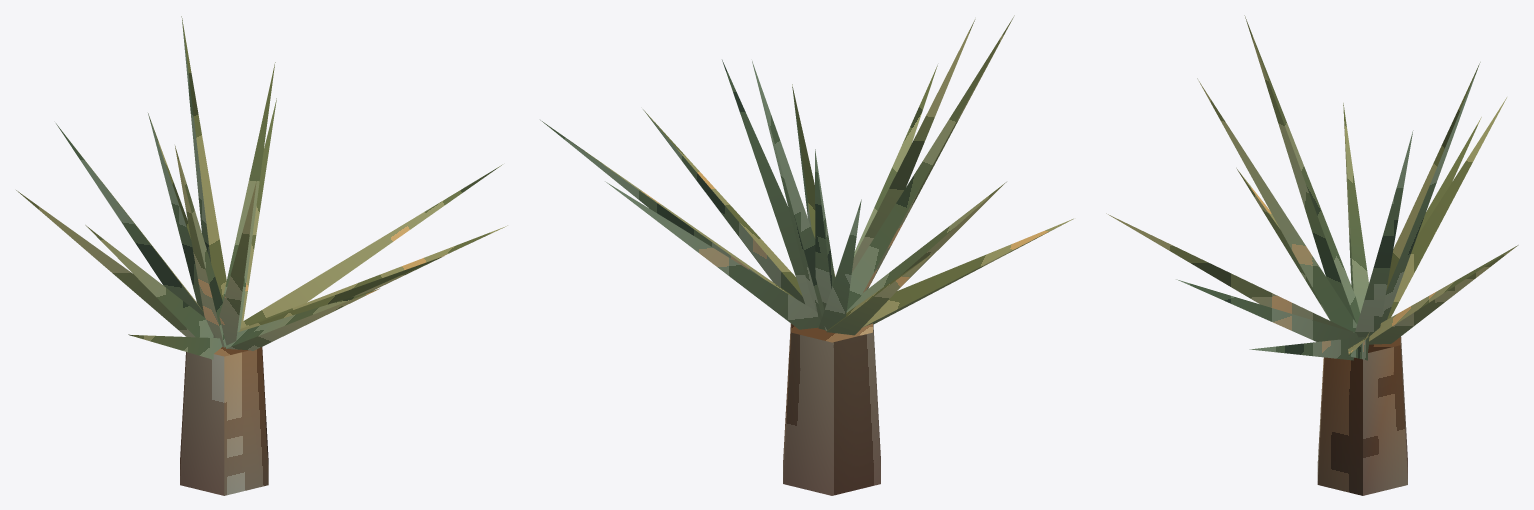
File: wland.yucca__no_stalk.glb
3 renders of one model, left to right at view 1: azimuth 30°, elevation 25°; view 2: azimuth 150°, elevation 25°; view 3: azimuth 270°, elevation 25°, orthographic. The views are drawn at different scales.
Parts seen in each view (by area): view 1: kit_leaves, kit_trunk; view 2: kit_leaves, kit_trunk; view 3: kit_leaves, kit_trunk.
Part boxes in pixels (box(x1,y1,x2,y2)): kit_leaves: box(16, 16, 507, 359); kit_trunk: box(180, 347, 268, 495); kit_leaves: box(540, 15, 1073, 335); kit_trunk: box(783, 323, 880, 495); kit_leaves: box(1106, 15, 1518, 360); kit_trunk: box(1317, 337, 1407, 495).
Size of the model in its own units: 1.17 by 1.07 by 0.9535.
Materials: 2 (2 with a texture image).
